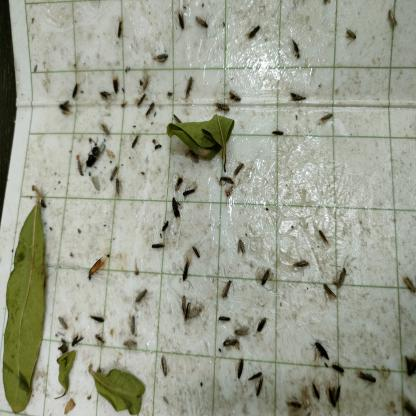prays_oleae: (178, 291, 208, 330), (78, 134, 107, 170), (83, 252, 107, 283), (309, 336, 330, 371), (340, 14, 360, 48), (355, 364, 379, 391), (290, 34, 307, 70), (336, 254, 350, 292), (194, 8, 212, 37), (330, 354, 349, 381), (326, 378, 342, 410), (145, 239, 168, 260), (99, 117, 115, 147), (170, 197, 184, 231), (292, 252, 312, 273), (400, 270, 415, 298), (284, 390, 303, 412), (213, 91, 229, 117), (179, 258, 193, 286), (322, 278, 336, 306), (316, 223, 330, 250), (89, 309, 107, 330), (258, 264, 271, 293), (235, 356, 246, 390), (129, 310, 140, 344), (319, 103, 336, 125), (56, 92, 70, 118), (310, 377, 324, 403), (134, 283, 148, 309), (225, 335, 243, 355), (53, 310, 70, 330), (140, 72, 153, 98), (111, 70, 124, 96), (184, 79, 200, 100), (158, 356, 172, 380), (221, 280, 236, 302), (92, 331, 110, 349), (230, 320, 249, 337), (384, 7, 398, 30), (291, 92, 306, 113), (228, 85, 243, 106), (233, 157, 244, 185), (70, 322, 82, 347), (238, 237, 249, 264), (114, 15, 126, 39), (74, 152, 86, 176), (145, 100, 161, 118), (219, 173, 234, 191), (71, 76, 81, 103), (122, 338, 140, 353), (177, 9, 187, 36), (130, 132, 142, 154), (271, 125, 286, 140), (113, 175, 122, 200), (134, 93, 147, 110), (258, 316, 268, 338), (172, 171, 182, 192), (99, 86, 111, 103), (253, 26, 264, 44), (218, 312, 230, 328), (155, 54, 170, 66), (160, 218, 170, 236), (172, 110, 184, 125), (249, 370, 263, 382), (108, 167, 121, 179), (184, 187, 202, 195)
